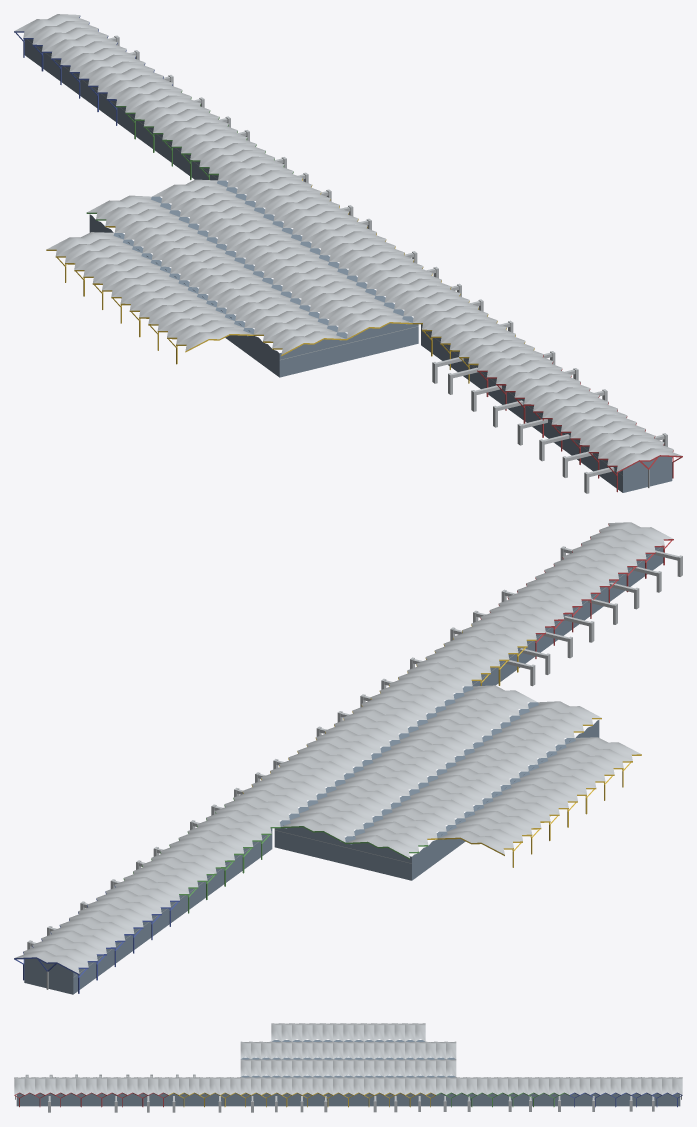
The model's file is madrid-barajas-terminal-4.glb.
3 renders of one model, top to bottom at view 1: azimuth 30°, elevation 25°; view 2: azimuth 150°, elevation 25°; view 3: azimuth 270°, elevation 25°, orthographic. The views are drawn at different scales.
Visible parts, largest first — view 1: Madrid-Barajas Terminal 4; view 2: Madrid-Barajas Terminal 4; view 3: Madrid-Barajas Terminal 4.
Part boxes in pixels (box(x1,y1,x2,y2)): Madrid-Barajas Terminal 4: box(14, 14, 682, 493); Madrid-Barajas Terminal 4: box(14, 522, 682, 994); Madrid-Barajas Terminal 4: box(14, 1023, 682, 1112).
Bounding box in the file's own units: 315 × 35.2 × 1171.
